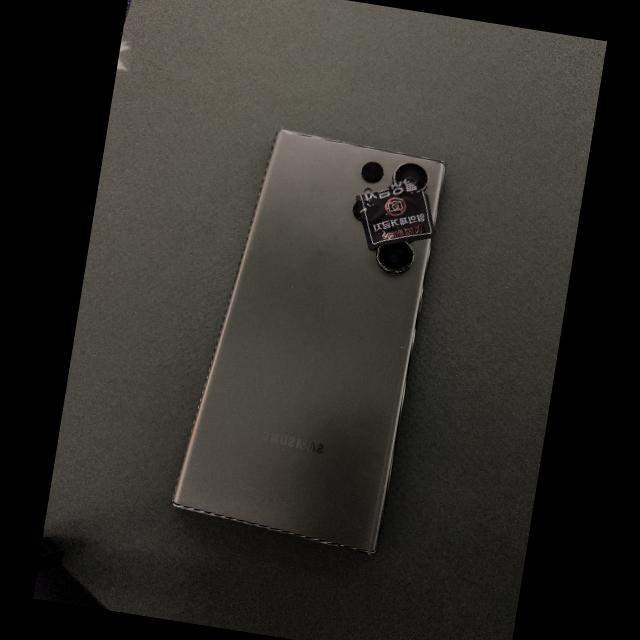lens: (376, 241, 411, 272), (393, 163, 427, 189), (361, 163, 381, 182)
phone: (170, 129, 446, 555)
sticker: (356, 177, 435, 251)
